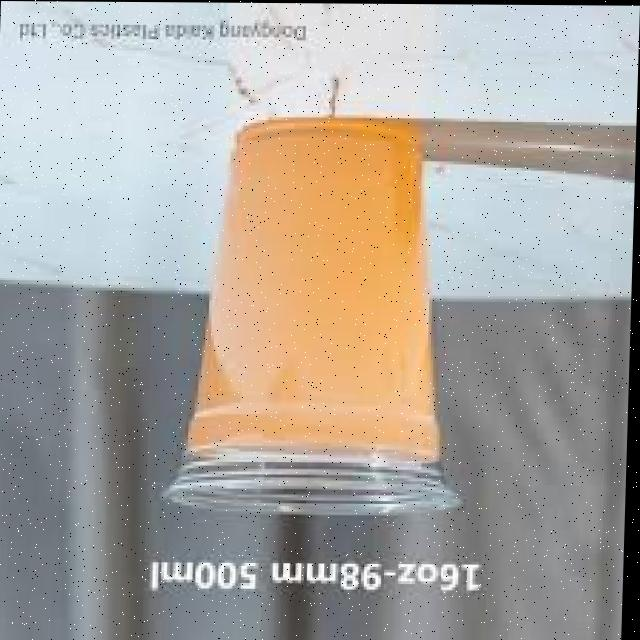cup: (153, 101, 491, 550)
